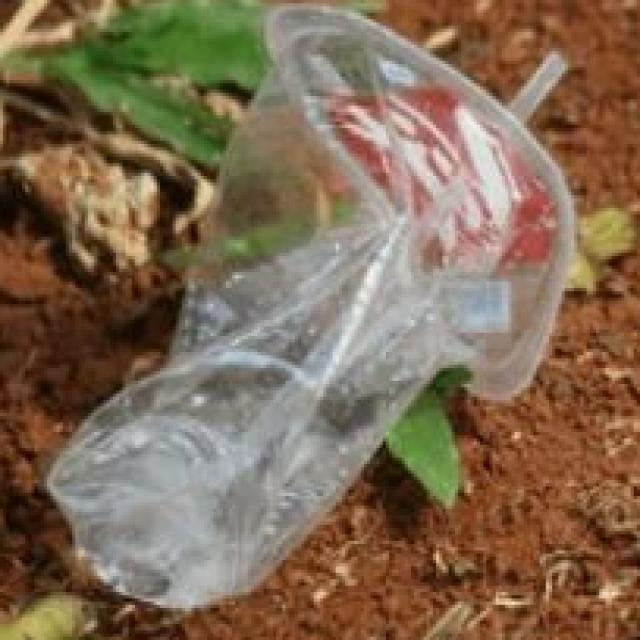general: (41, 0, 577, 611)
